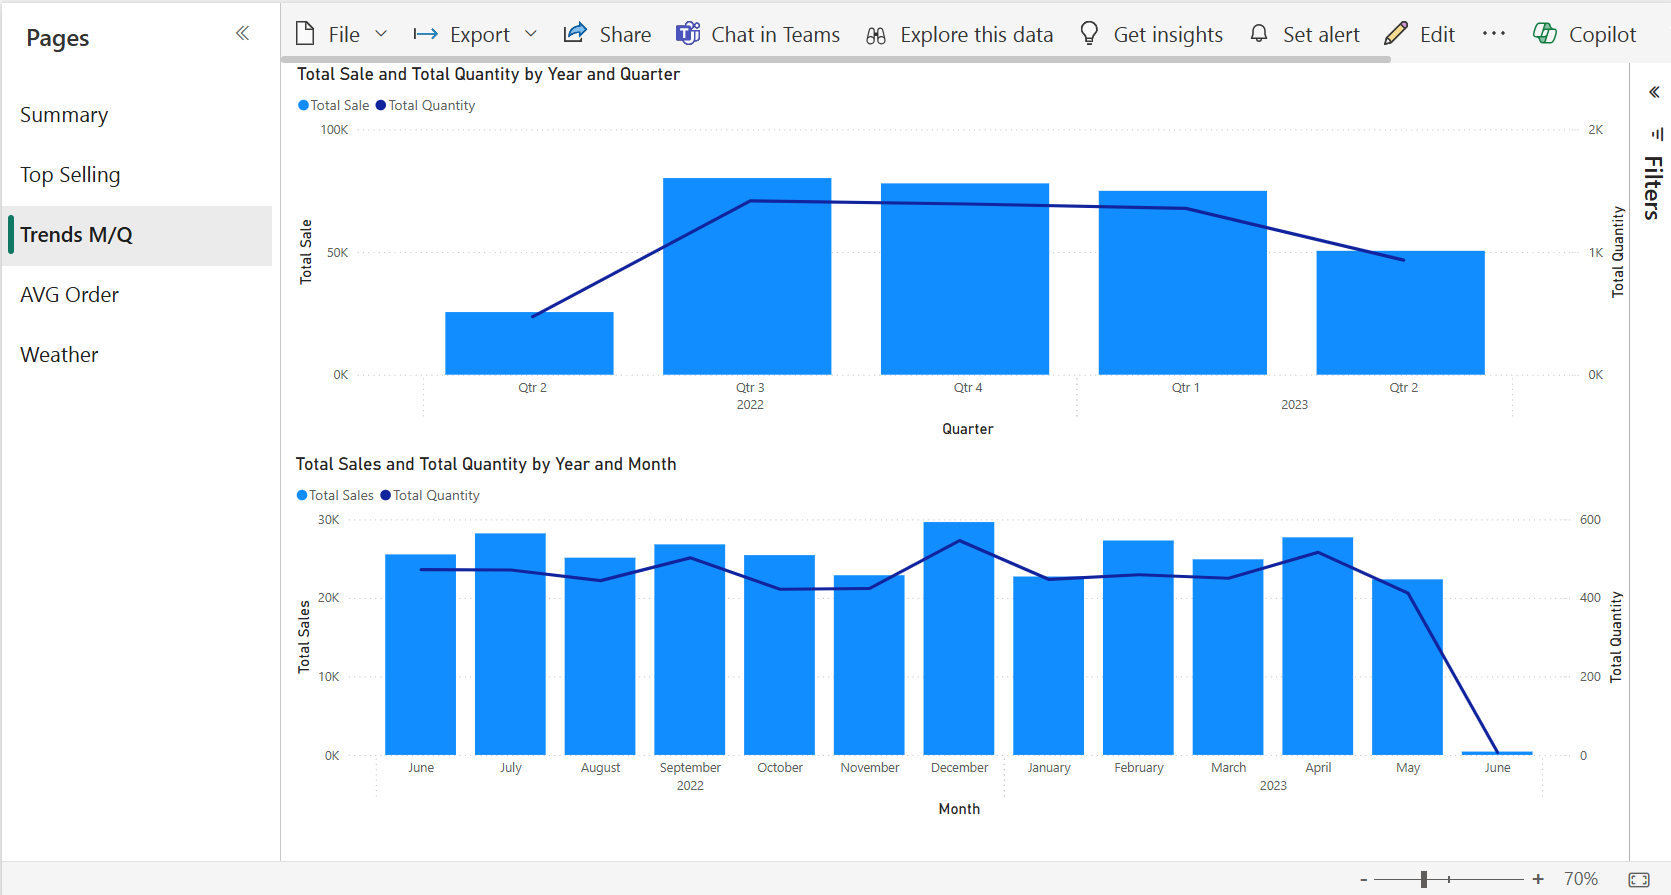

The page's visual inventory and layout, read from the dashboard file:
{"tool":"powerbi","page":{"name":"Trends M/Q","canvas":[1280,720],"ordinal":2},"visuals":[{"type":"lineStackedColumnComboChart","fields":{"Category":["silver_sales.order_date.Variation.Date Hierarchy.Year","silver_sales.order_date.Variation.Date Hierarchy.Quarter"],"Y":["Sum(silver_sales.order_sale)"],"Y2":["Sum(silver_sales.quantity)"]},"box":[9.6,0,1270.8,359.5],"z":0},{"type":"lineClusteredColumnComboChart","fields":{"Category":["silver_sales.order_date.Variation.Date Hierarchy.Year","silver_sales.order_date.Variation.Date Hierarchy.Month"],"Y":["Sum(silver_sales.order_sale)"],"Y2":["Sum(silver_sales.quantity)"]},"box":[9.2,370.5,1270.2,350.3],"z":1000}]}

Visuals, with their boxes on the page's 1280x720 design canvas (x1, y1, x2, y2). These are canvas units, not pixel positions in the 1671x895 screenshot, which may show the page scaled, cropped or inside an application window:
lineStackedColumnComboChart - silver_sales.order_date.Variation.Date Hierarchy.Year x silver_sales.order_date.Variation.Date Hierarchy.Quarter: <region>10, 0, 1280, 360</region>
lineClusteredColumnComboChart - silver_sales.order_date.Variation.Date Hierarchy.Year x silver_sales.order_date.Variation.Date Hierarchy.Month: <region>9, 370, 1279, 721</region>
